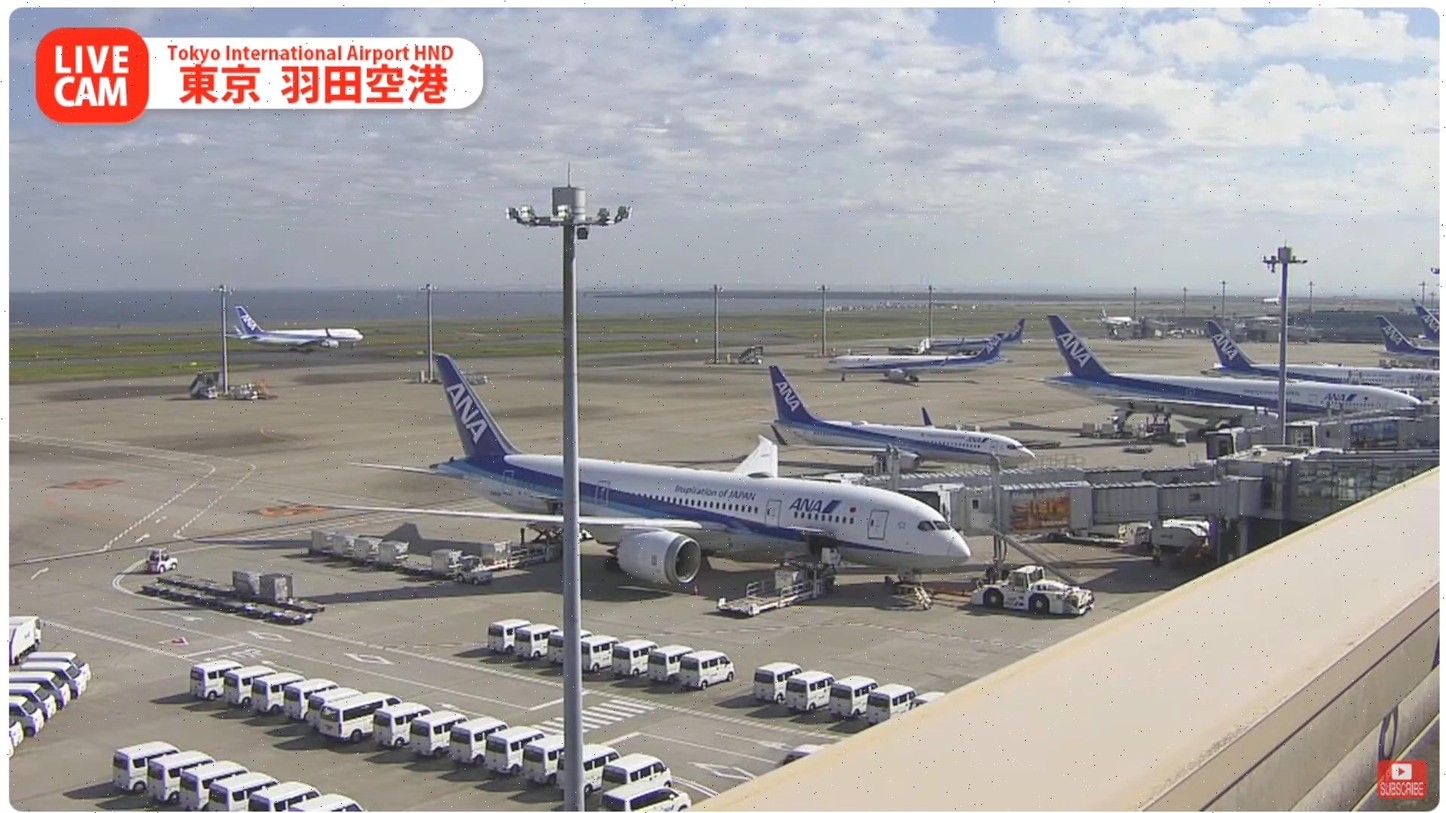APS: (969, 564, 1106, 619)
Aerobridge: (899, 476, 1264, 540), (843, 457, 1217, 496)
Airplane: (330, 354, 973, 599)
Dolly: (143, 579, 315, 626), (310, 527, 461, 579), (158, 568, 326, 613)
JCPL: (717, 553, 843, 617), (450, 522, 565, 575)
Tractor: (454, 553, 493, 585), (143, 545, 181, 574)
Window: (1290, 456, 1440, 523)
